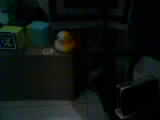duck: (55, 32, 74, 54)
